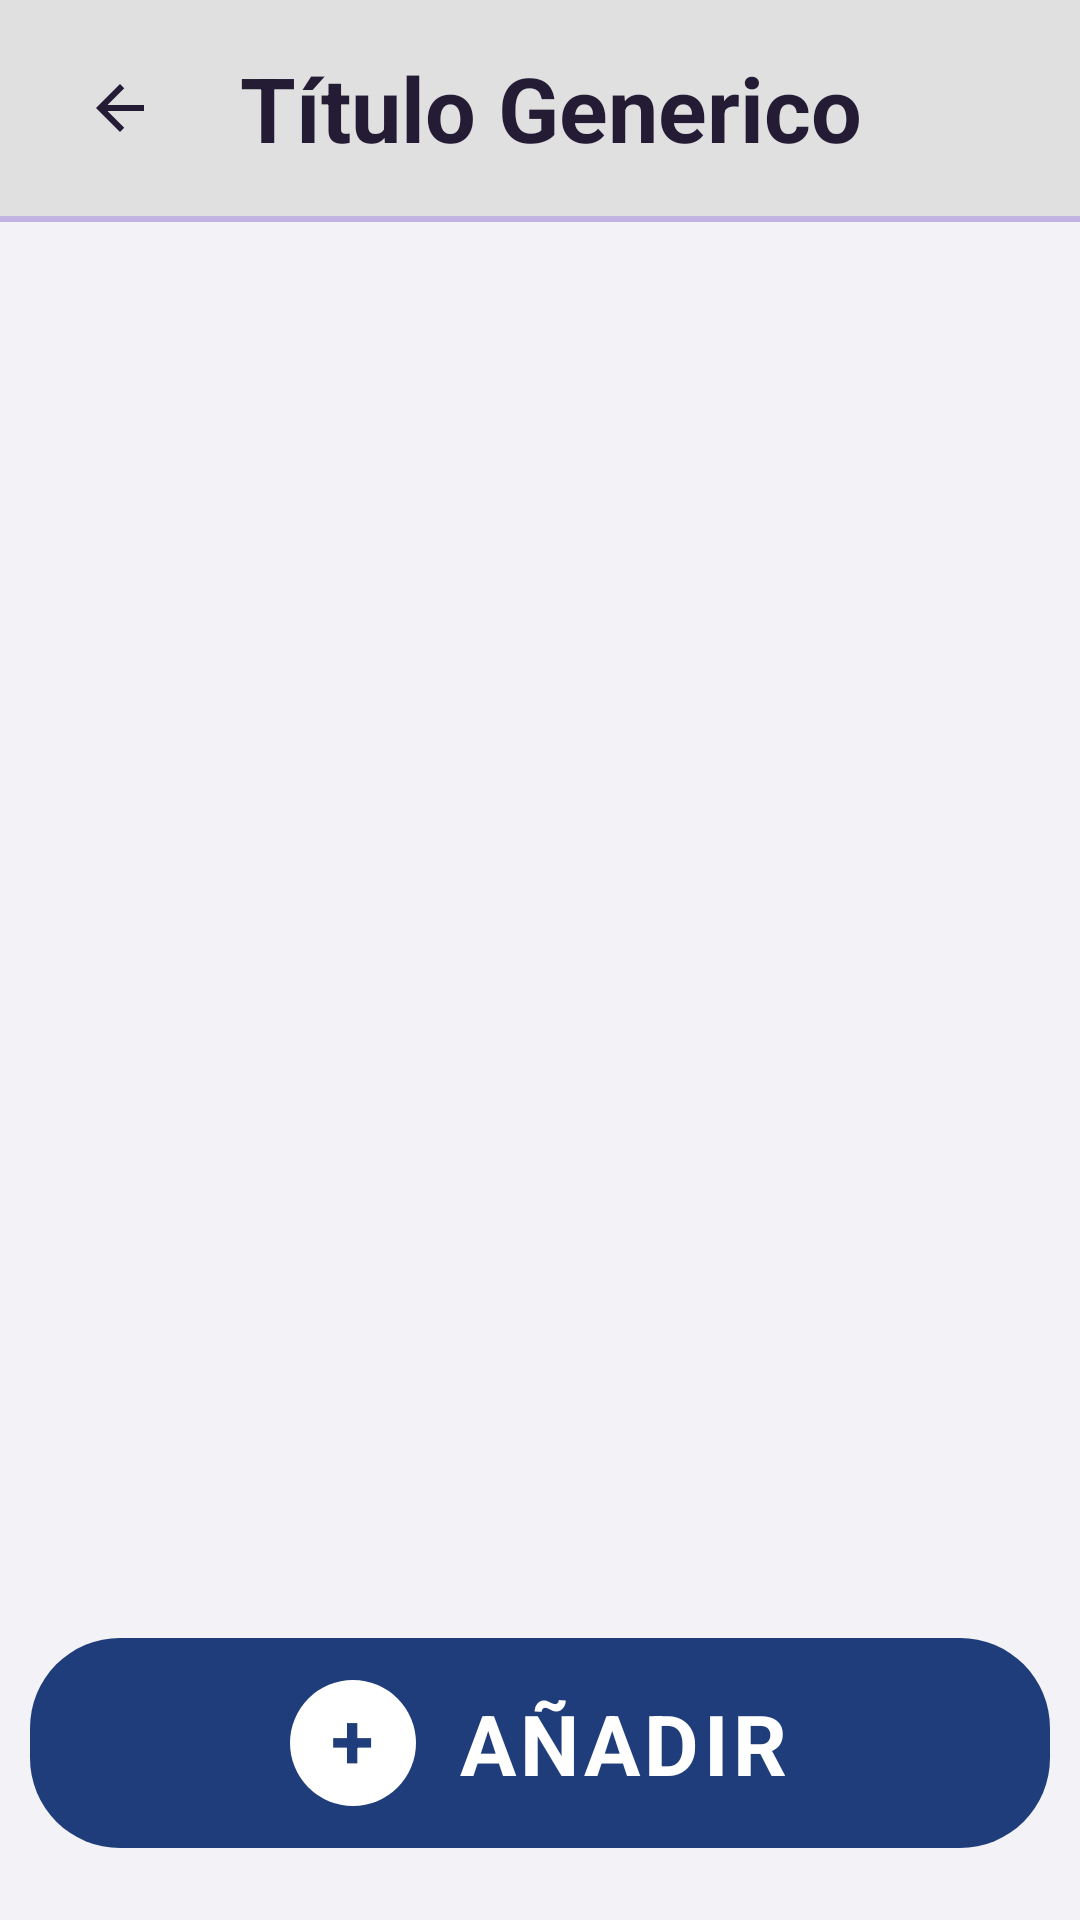

Icon bounding boxes for this 1080*1920 phone screenshot, format (x1, y1, x2, y2):
Atrás: (96, 84, 144, 132)
